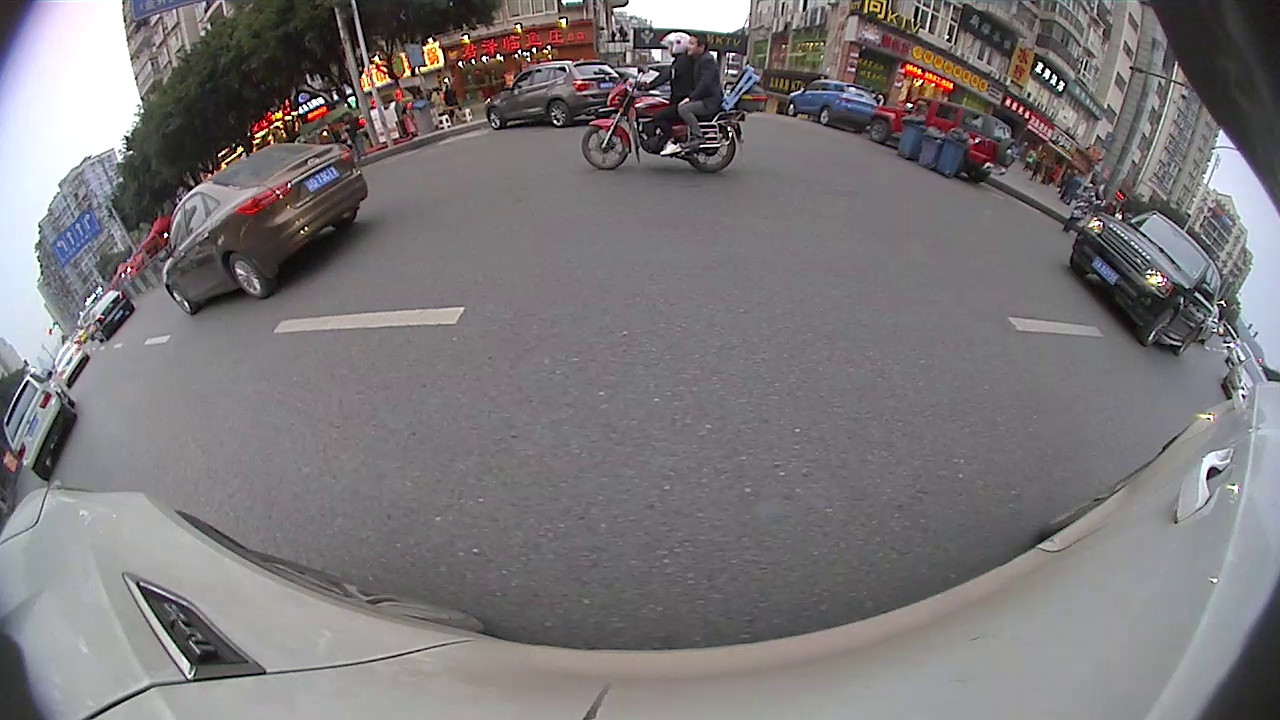car: (159, 138, 371, 317), (1068, 207, 1220, 359), (873, 98, 1019, 187), (486, 60, 619, 134), (1, 372, 79, 482), (781, 74, 880, 134), (83, 288, 134, 341), (1223, 353, 1271, 400), (52, 338, 92, 384)
front: (580, 118, 632, 173), (1139, 306, 1178, 350), (166, 285, 198, 319), (866, 117, 892, 144), (484, 105, 508, 134)
rear: (683, 119, 737, 176), (227, 251, 271, 302), (545, 99, 570, 129)
rider: (584, 26, 772, 174)
